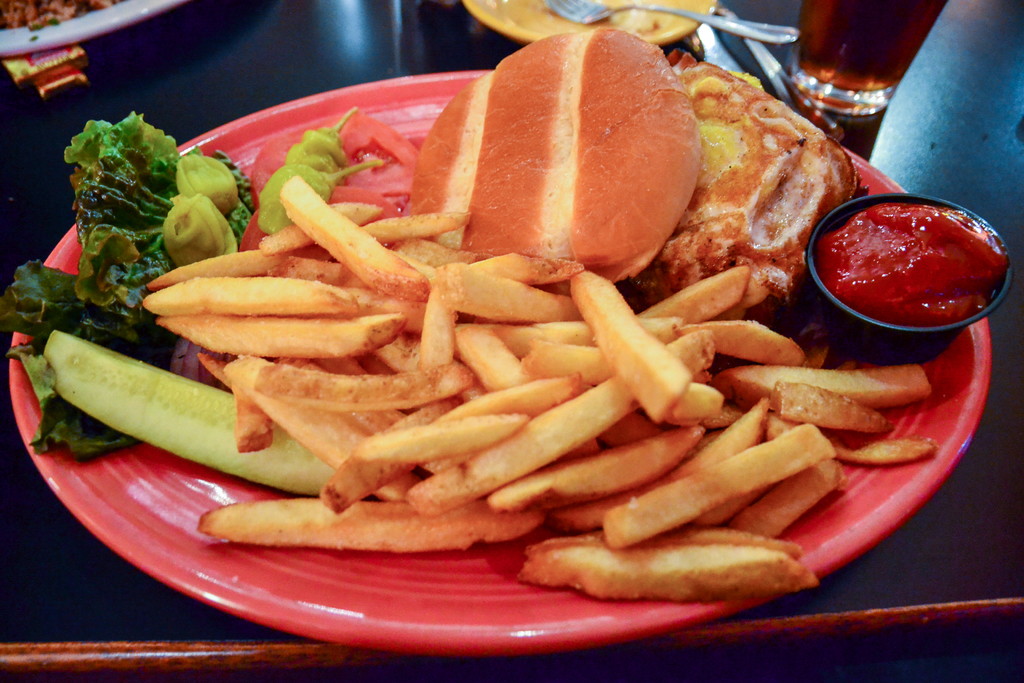French fries: (147, 162, 939, 606)
